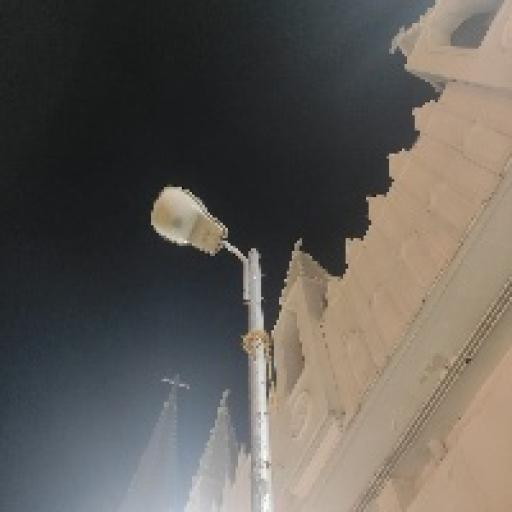Not Working: (136, 175, 240, 276)
